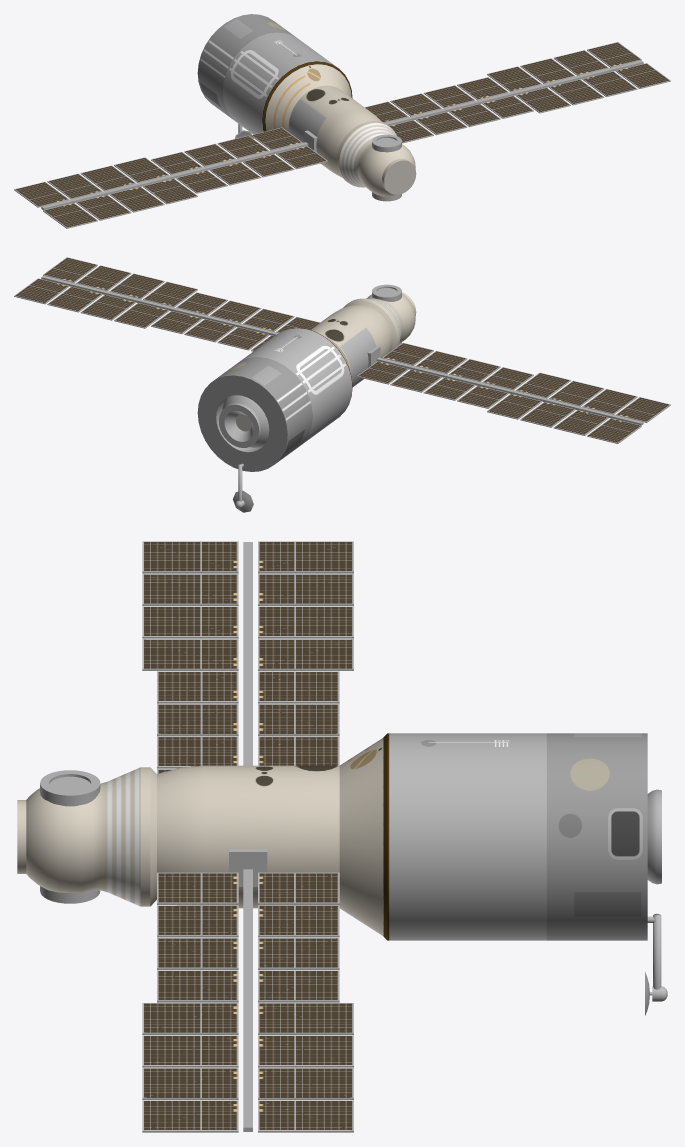
File: iss_zvezda.fbx
3 renders of one model, top to bottom at view 1: azimuth 30°, elevation 25°; view 2: azimuth 150°, elevation 25°; view 3: azimuth 270°, elevation 25°, orthographic. The views are drawn at different scales.
Visible parts, largest first — view 1: zvezda panels, zvezda; view 2: zvezda panels, zvezda; view 3: zvezda, zvezda panels.
Boxes of the visible parts, x1,y1,x2,y2 form: zvezda panels: (14,42,670,228); zvezda: (197,14,416,201); zvezda panels: (14,257,670,443); zvezda: (197,284,416,512); zvezda: (17,733,667,1015); zvezda panels: (142,541,353,1132).
Size of what is drawn, in the model's own units: 29 by 6.27 by 13.52.
